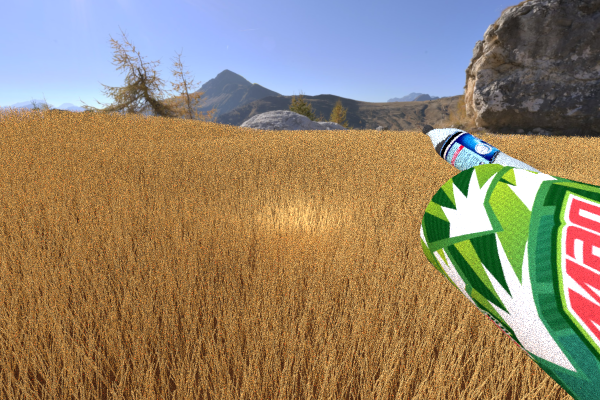bottle: (422, 124, 554, 207)
can: (420, 163, 600, 400)
